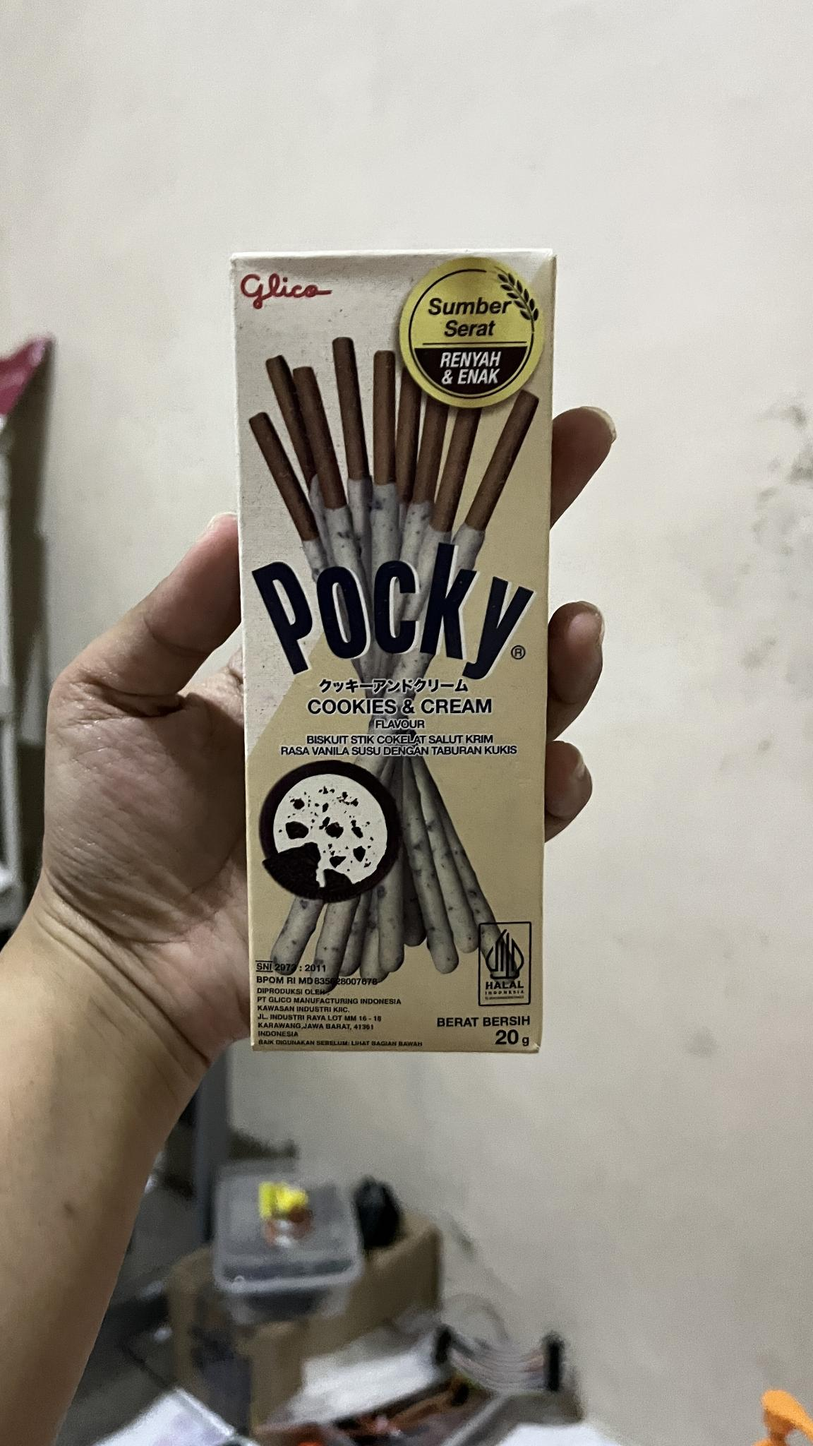Kertas: (237, 251, 559, 1062)
